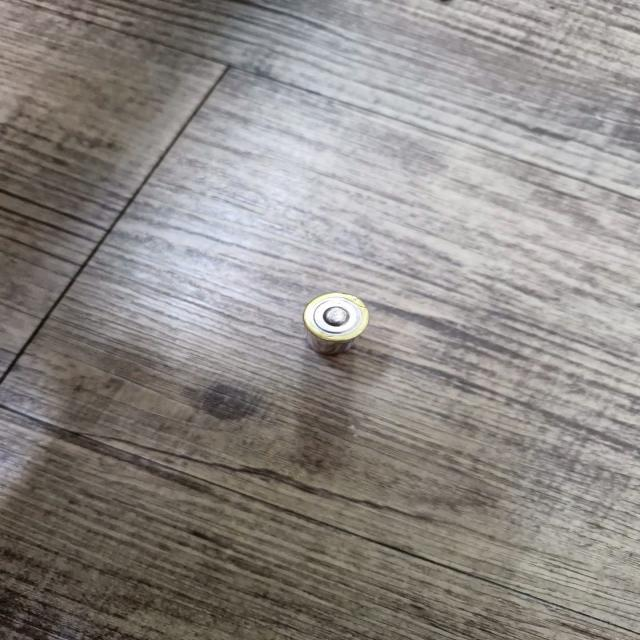battery: (300, 293, 376, 350)
